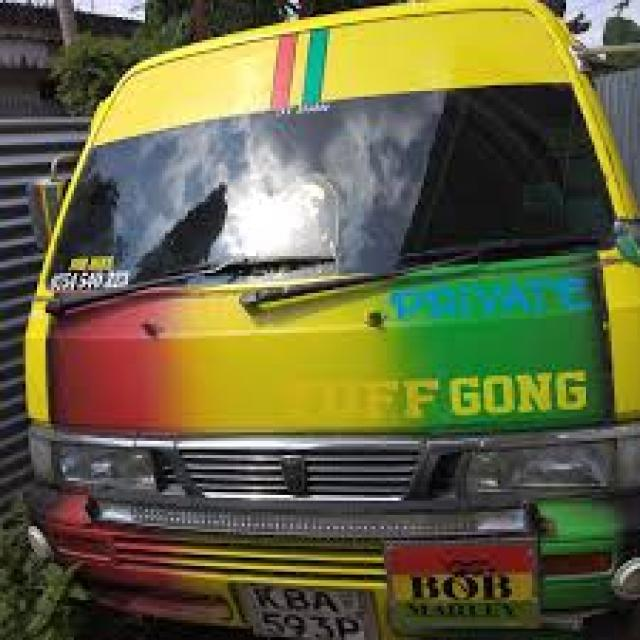matatu: (11, 3, 640, 639)
